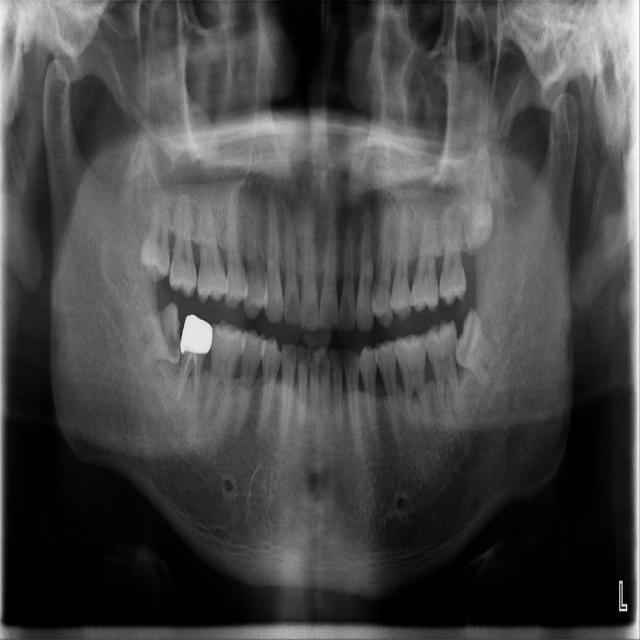3M ESPE Implant: (139, 185, 171, 283)
52: (180, 313, 216, 357)
73: (596, 594, 602, 595)
BioHorizons Implant: (438, 195, 471, 308)
BioLife Implant: (459, 165, 494, 256)
Biomet 3i Implant: (437, 304, 507, 396)
Blue Sky Bio Implant: (422, 315, 464, 425)
Caries: (162, 190, 199, 302)
Implant: (161, 311, 218, 421)
Keystone Dental Implant: (128, 301, 182, 367)
